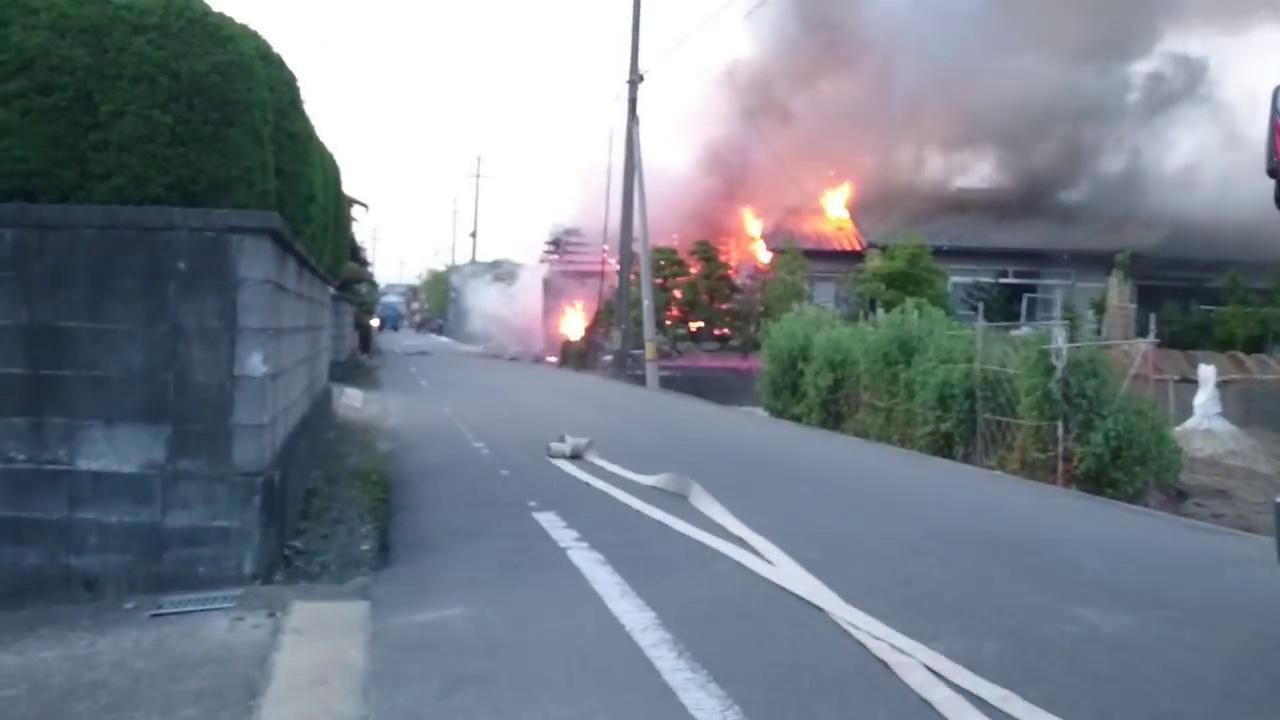Fire: (739, 208, 779, 264), (821, 174, 861, 221), (559, 301, 589, 343)
